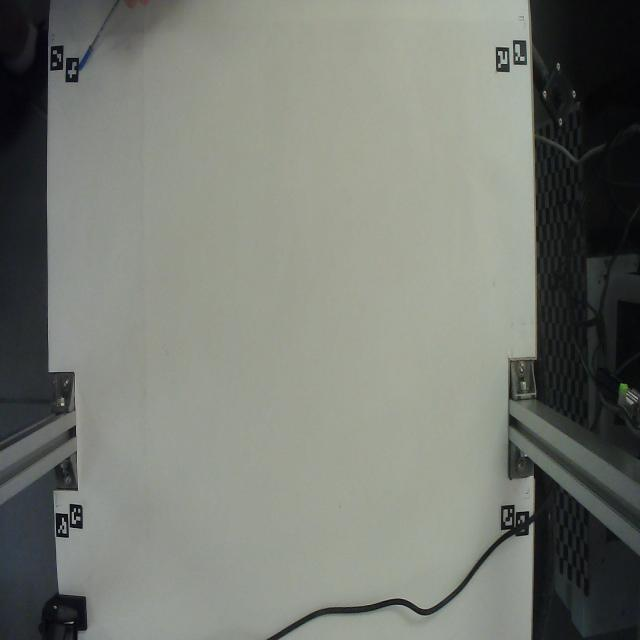Pres: (72, 0, 139, 87)
